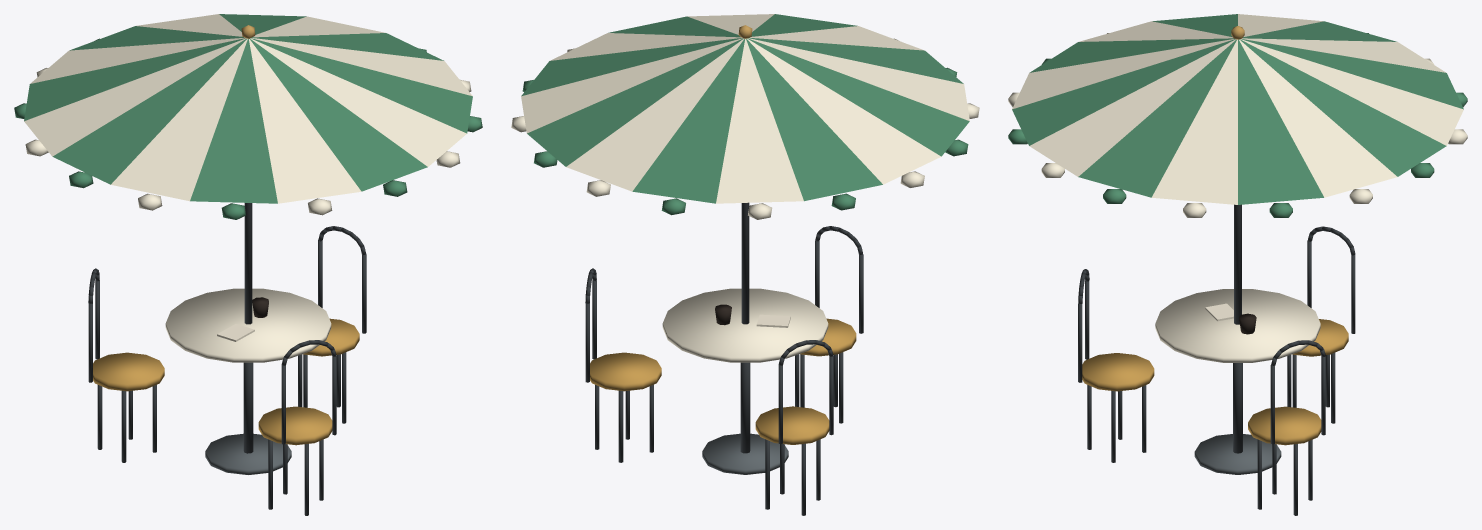
3 views of the same model, side by side, from view 1: azimuth 30°, elevation 25°; view 2: azimuth 150°, elevation 25°; view 3: azimuth 270°, elevation 25° (orthographic).
Parts seen in each view (by area): view 1: house_paint; view 2: house_paint; view 3: house_paint.
Boxes of the visible parts, bbox=[...] form: house_paint: bbox=[14, 14, 482, 515]; house_paint: bbox=[511, 14, 979, 515]; house_paint: bbox=[1008, 14, 1467, 515].
Size of the model in its own units: 2.34 by 2.42 by 2.34.
1 material, 1 textured.
